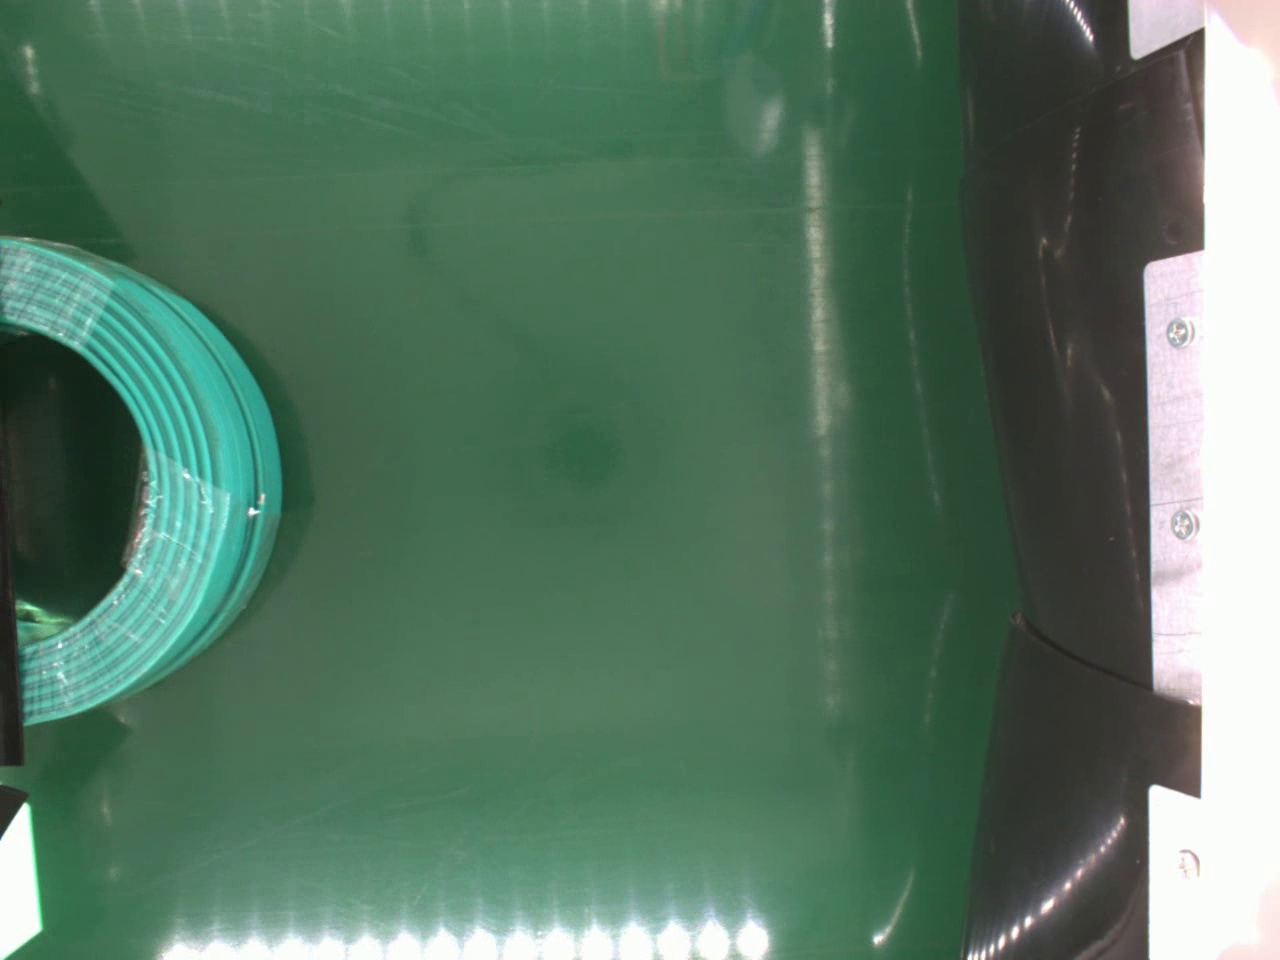green: (0, 227, 279, 727)
